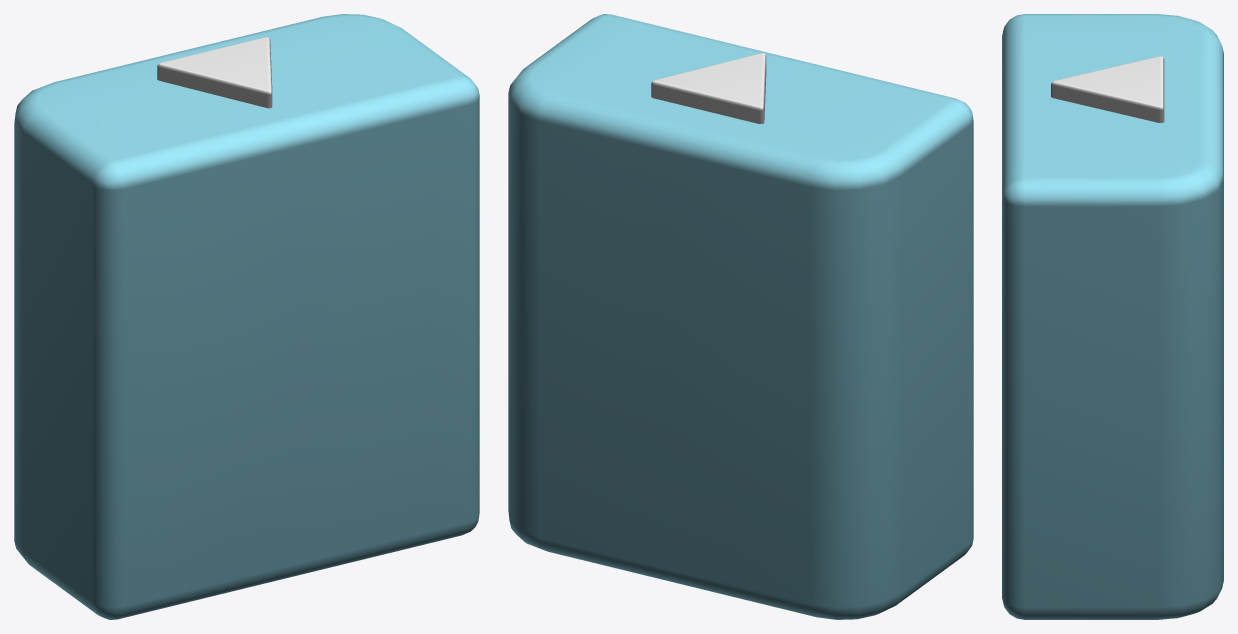
The model's file is Blast_LightBlue.fbx.
The picture shows the model from 3 angles, left to right: view 1: azimuth 30°, elevation 25°; view 2: azimuth 150°, elevation 25°; view 3: azimuth 270°, elevation 25°; orthographic projection. The views are drawn at different scales.
Visible parts, largest first — view 1: Blast_LightBlue; view 2: Blast_LightBlue; view 3: Blast_LightBlue.
Part boxes in pixels (bbox=[...]): Blast_LightBlue: bbox=[14, 14, 479, 619]; Blast_LightBlue: bbox=[508, 14, 973, 619]; Blast_LightBlue: bbox=[1002, 14, 1223, 619].
Bounding box in the file's own units: 1.01 × 1.19 × 0.525.
1 material, 1 textured.
